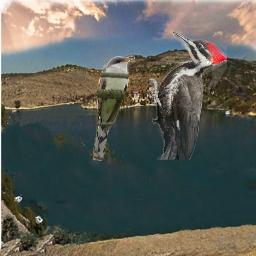Cuckoo: (93, 56, 135, 161)
Woodpecker: (149, 30, 227, 160)
